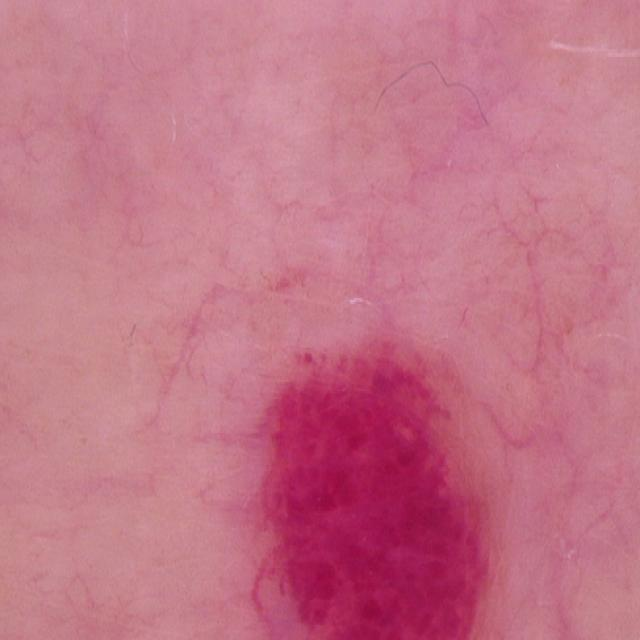Vascular Lesions: (232, 343, 525, 640)
